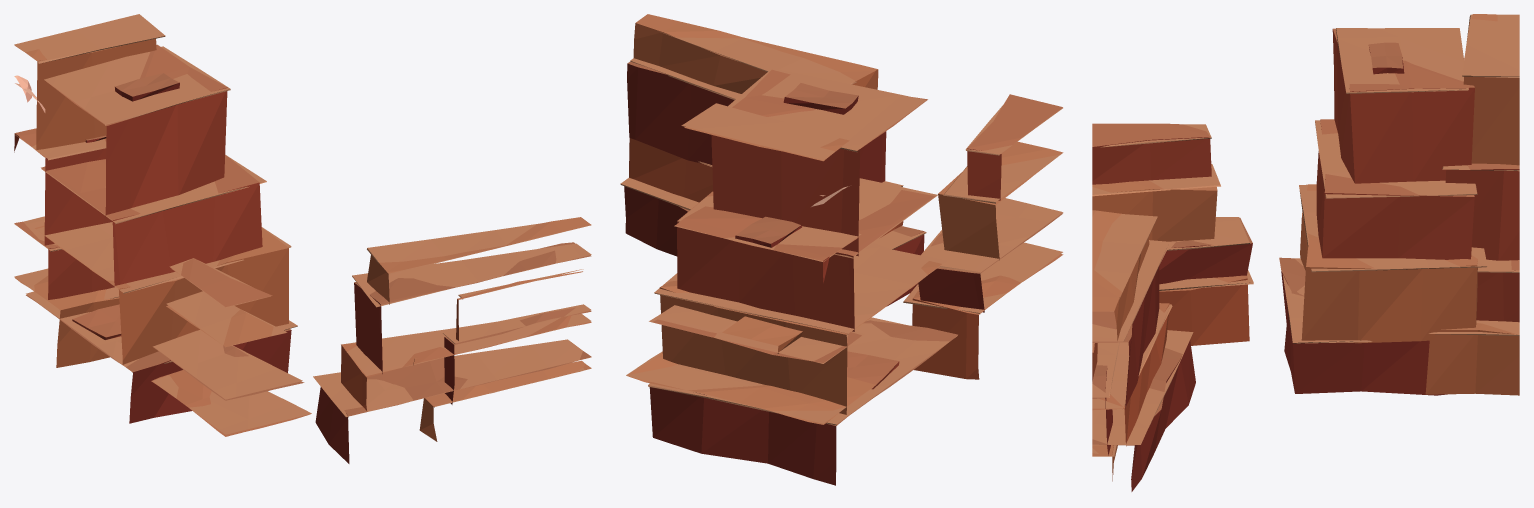
3 views of the same model, side by side, from view 1: azimuth 30°, elevation 25°; view 2: azimuth 150°, elevation 25°; view 3: azimuth 270°, elevation 25° (orthographic). The views are drawn at different scales.
Visible parts, largest first — view 1: scene.1.3; view 2: scene.1.3; view 3: scene.1.3.
Part boxes in pixels (box(x1,y1,x2,y2)): scene.1.3: box(14, 14, 591, 463); scene.1.3: box(620, 14, 1063, 485); scene.1.3: box(1092, 14, 1519, 491).
Bounding box in the file's own units: 62.5 × 48.57 × 62.5.
